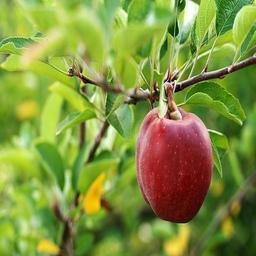apple: (136, 108, 215, 224)
